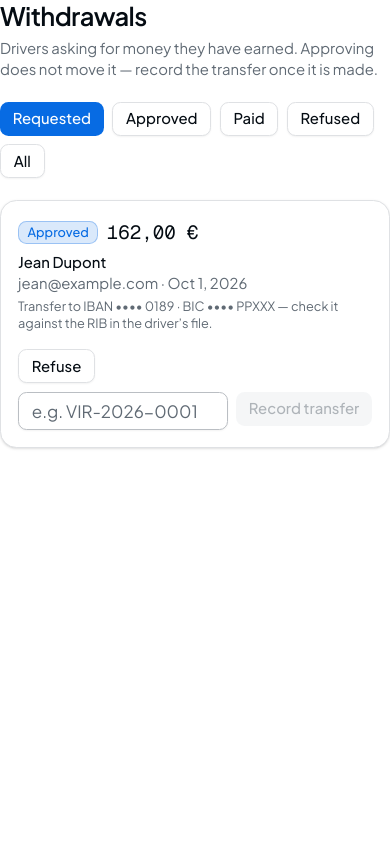
Test: WithdrawalQueue › keeps an approved request when the operator backs out
This screenshot has width=390, height=844.
Click the button "Refuse" at (56, 366), box [18, 350, 95, 384]
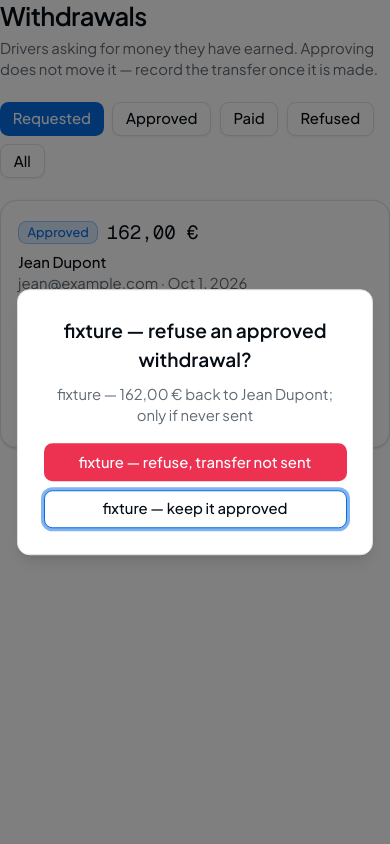
Click the button "fixture — keep it approved" at (195, 509), box [44, 490, 346, 528]
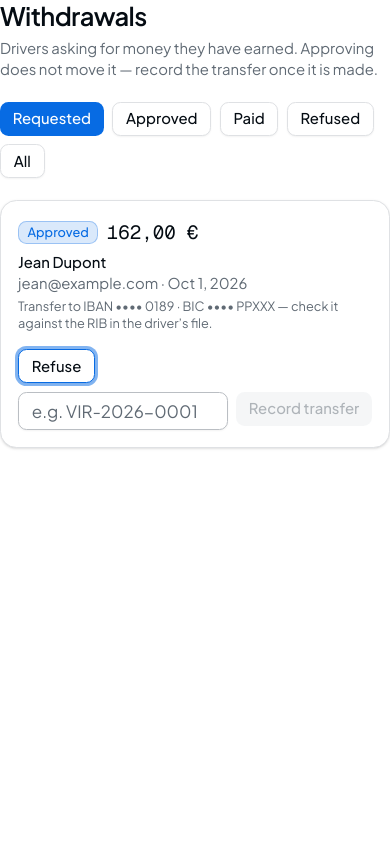
Check: the dialog is gone
